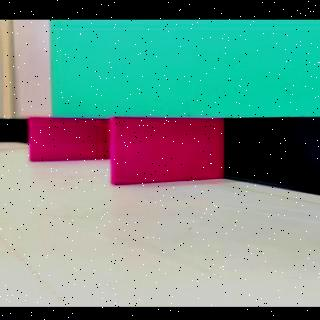xparking: (110, 117, 221, 177), (30, 118, 106, 160)
